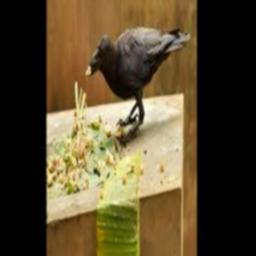Crow: (88, 26, 191, 133)
